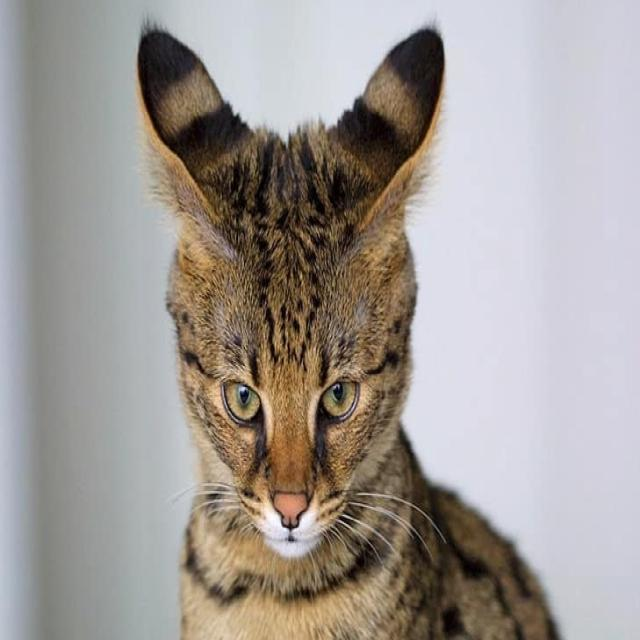Savannah: (133, 18, 573, 640)
